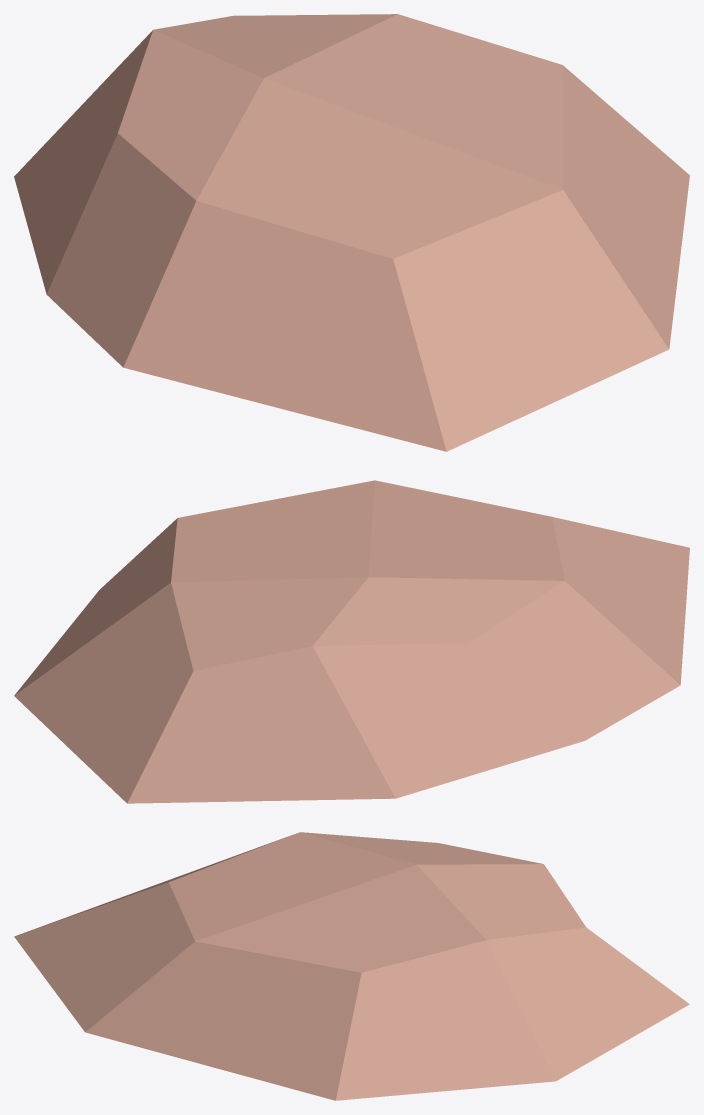
The model's file is Rock_Mesa_Medium_13.fbx.
3 views of the same model, one above another, from view 1: azimuth 30°, elevation 25°; view 2: azimuth 150°, elevation 25°; view 3: azimuth 270°, elevation 25° (orthographic). The views are drawn at different scales.
Visible parts, largest first — view 1: Rock; view 2: Rock; view 3: Rock.
Boxes of the visible parts, bbox=[...] form: Rock: bbox=[14, 14, 689, 451]; Rock: bbox=[14, 480, 689, 803]; Rock: bbox=[14, 832, 689, 1100].
Size of the model in its own units: 66.96 by 15.23 by 87.17.
